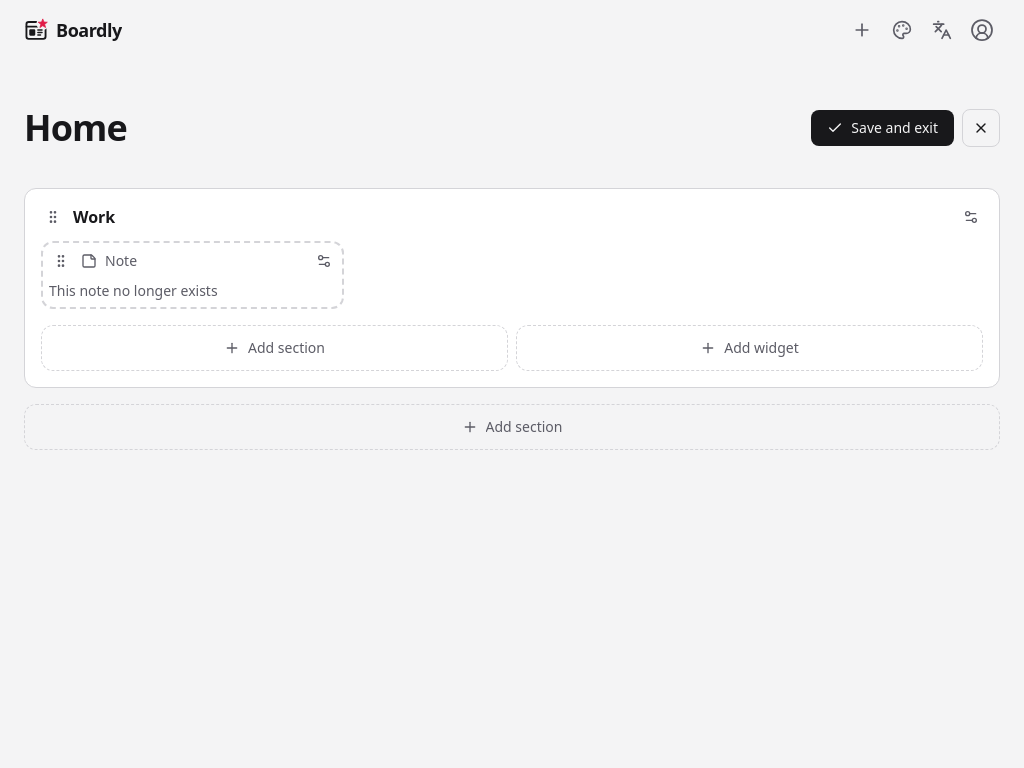
the note widget › shows a deleted note in the settings and lets another one be chosen
Check: the text "This note no longer exists" is shown, box [49, 281, 218, 300]
Click the button named "Edit Note": (324,261) [312, 249, 336, 273]
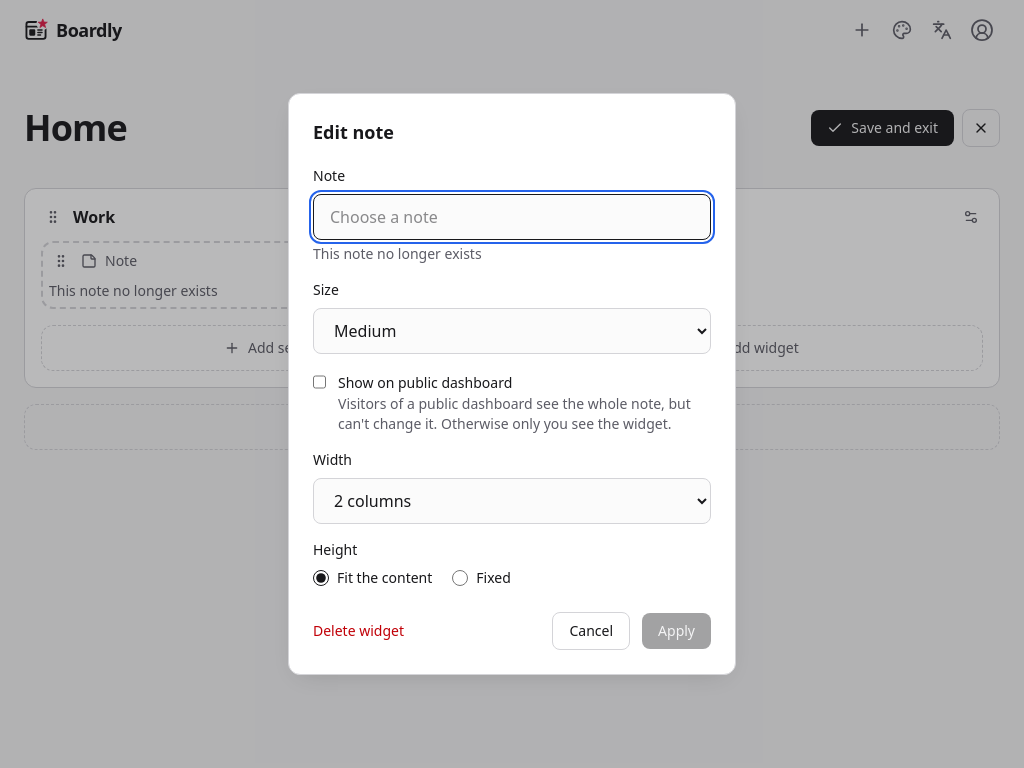
Check: the text "This note no longer exists" is shown, box [313, 244, 482, 263]
Check: the button "Apply" is disabled, box [642, 613, 711, 649]
Check: the dropdown labelled "Note" is empty
In the dropdown labelled "Note": (512,217) [313, 194, 711, 240], type "groc"
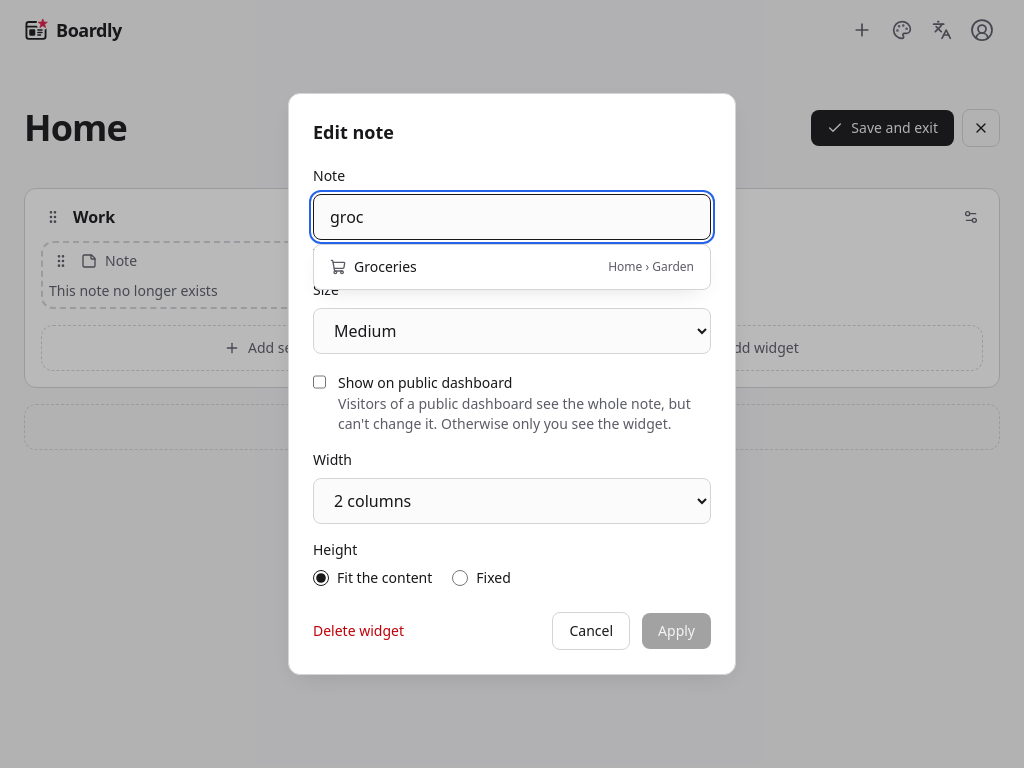
Click the option "Groceries Home › Garden": (385,266) [330, 257, 694, 276]
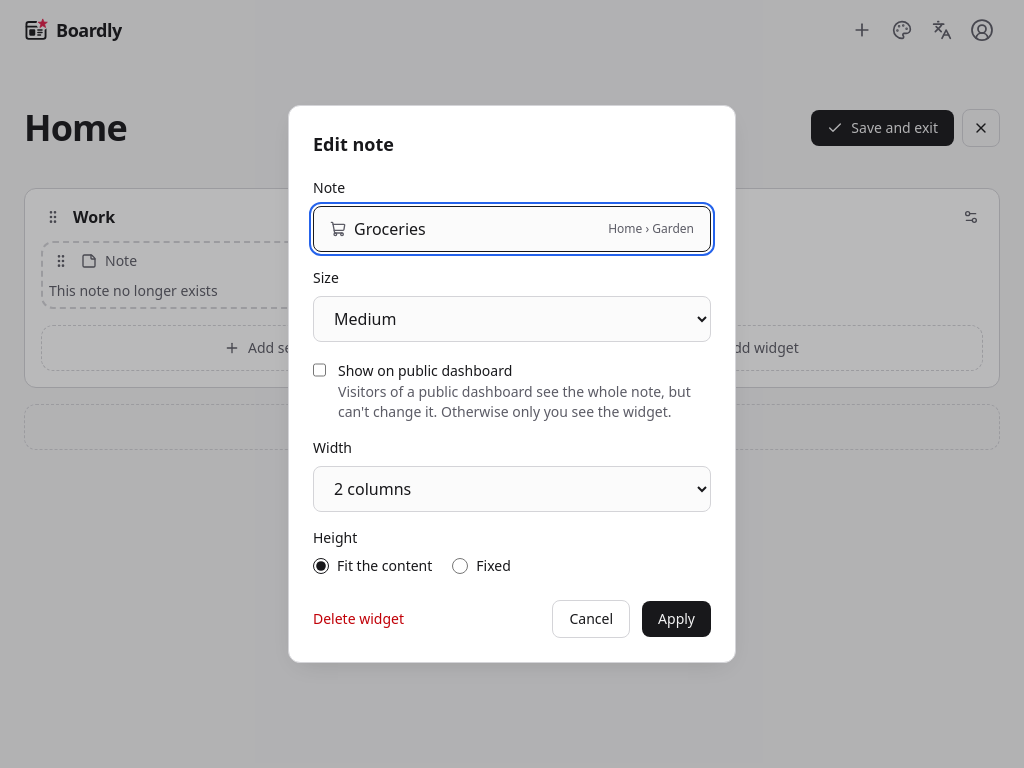
Check: the button "Apply" is enabled, box [642, 601, 711, 637]
